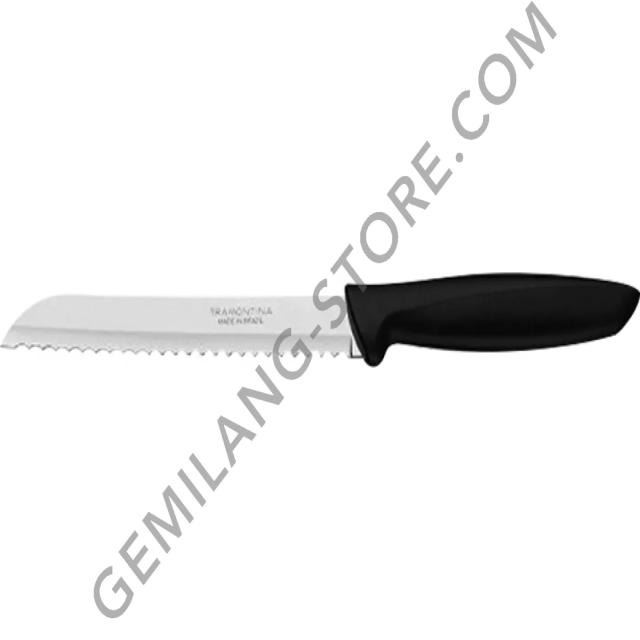Knife: (2, 273, 640, 379)
